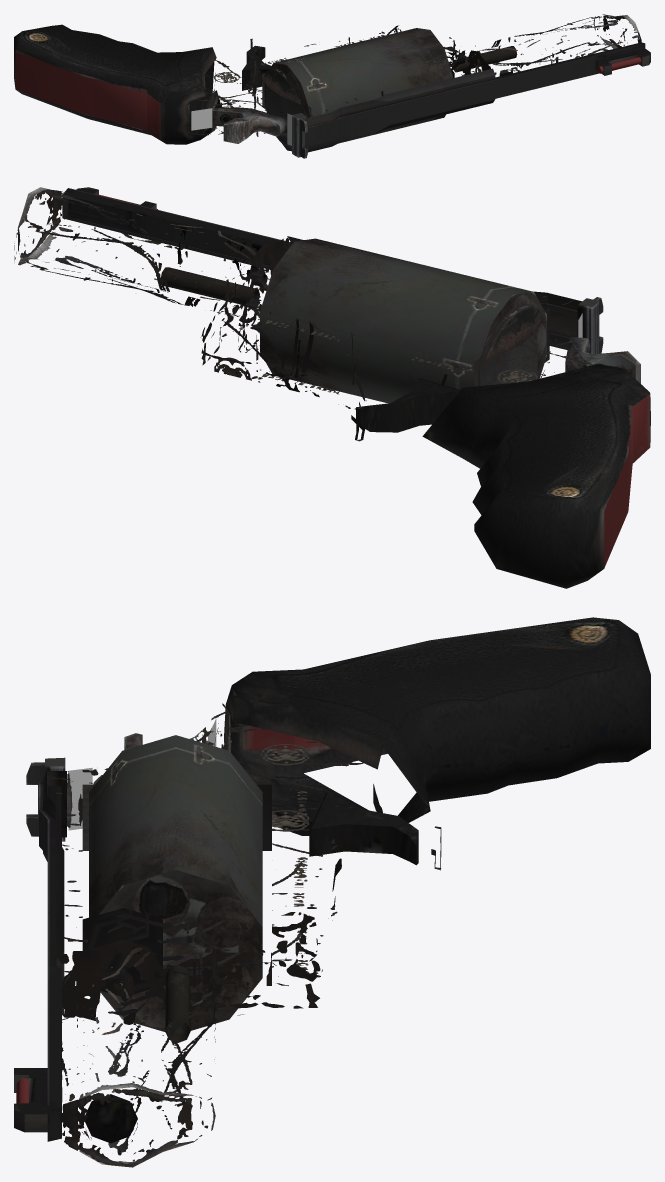
File: t6_wpn_pistol_judge_world_lh_LOD0.obj
The picture shows the model from 3 angles, top to bottom: view 1: azimuth 30°, elevation 25°; view 2: azimuth 150°, elevation 25°; view 3: azimuth 270°, elevation 25°; orthographic projection. The views are drawn at different scales.
Parts seen in each view (by area): view 1: mtl_t6_wpn_pistol_judge_camo2, mtl_t6_wpn_pistol_judge, mtl_t6_wpn_pistol_judge_camo1, mtl_t6_wpn_pistol_judge_camo3, mtl_player_icon_world; view 2: mtl_t6_wpn_pistol_judge_camo2, mtl_t6_wpn_pistol_judge, mtl_t6_wpn_pistol_judge_camo1, mtl_t6_wpn_pistol_judge_camo3; view 3: mtl_t6_wpn_pistol_judge_camo2, mtl_t6_wpn_pistol_judge, mtl_t6_wpn_pistol_judge_camo1, mtl_t6_wpn_pistol_judge_camo4, mtl_clan_tag_world.
Boxes of the visible parts, <box> form: mtl_t6_wpn_pistol_judge_camo2: <box>14,24,497,147</box>; mtl_t6_wpn_pistol_judge: <box>188,14,645,152</box>; mtl_t6_wpn_pistol_judge_camo1: <box>15,37,650,158</box>; mtl_t6_wpn_pistol_judge_camo3: <box>261,69,300,146</box>; mtl_player_icon_world: <box>191,108,212,130</box>; mtl_t6_wpn_pistol_judge_camo2: <box>260,238,650,588</box>; mtl_t6_wpn_pistol_judge: <box>14,187,592,441</box>; mtl_t6_wpn_pistol_judge_camo1: <box>68,187,650,567</box>; mtl_t6_wpn_pistol_judge_camo3: <box>486,305,545,378</box>; mtl_t6_wpn_pistol_judge_camo2: <box>39,617,650,926</box>; mtl_t6_wpn_pistol_judge: <box>16,703,441,1167</box>; mtl_t6_wpn_pistol_judge_camo1: <box>14,725,418,1132</box>; mtl_t6_wpn_pistol_judge_camo4: <box>85,1094,137,1143</box>; mtl_clan_tag_world: <box>68,767,92,830</box>.
Bounding box in the file's own units: 31.29 × 5.18 × 18.08.
